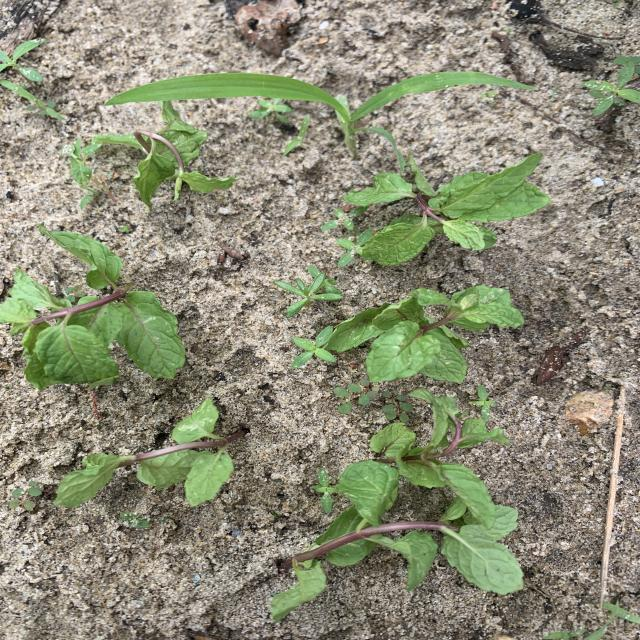crop: (271, 460, 523, 620), (1, 226, 184, 389), (344, 156, 548, 264), (54, 399, 243, 507), (371, 389, 509, 530), (327, 287, 522, 383), (93, 101, 234, 207)
weed: (105, 72, 534, 170), (583, 57, 639, 115), (67, 140, 116, 206), (275, 266, 341, 315), (0, 79, 63, 119), (292, 326, 335, 367), (0, 40, 43, 81), (335, 380, 378, 412), (336, 229, 371, 266), (321, 207, 366, 231), (283, 115, 310, 155), (9, 481, 43, 510), (381, 390, 411, 421), (313, 469, 334, 511), (470, 386, 495, 419), (249, 100, 292, 119), (603, 601, 639, 623), (120, 512, 151, 528)
